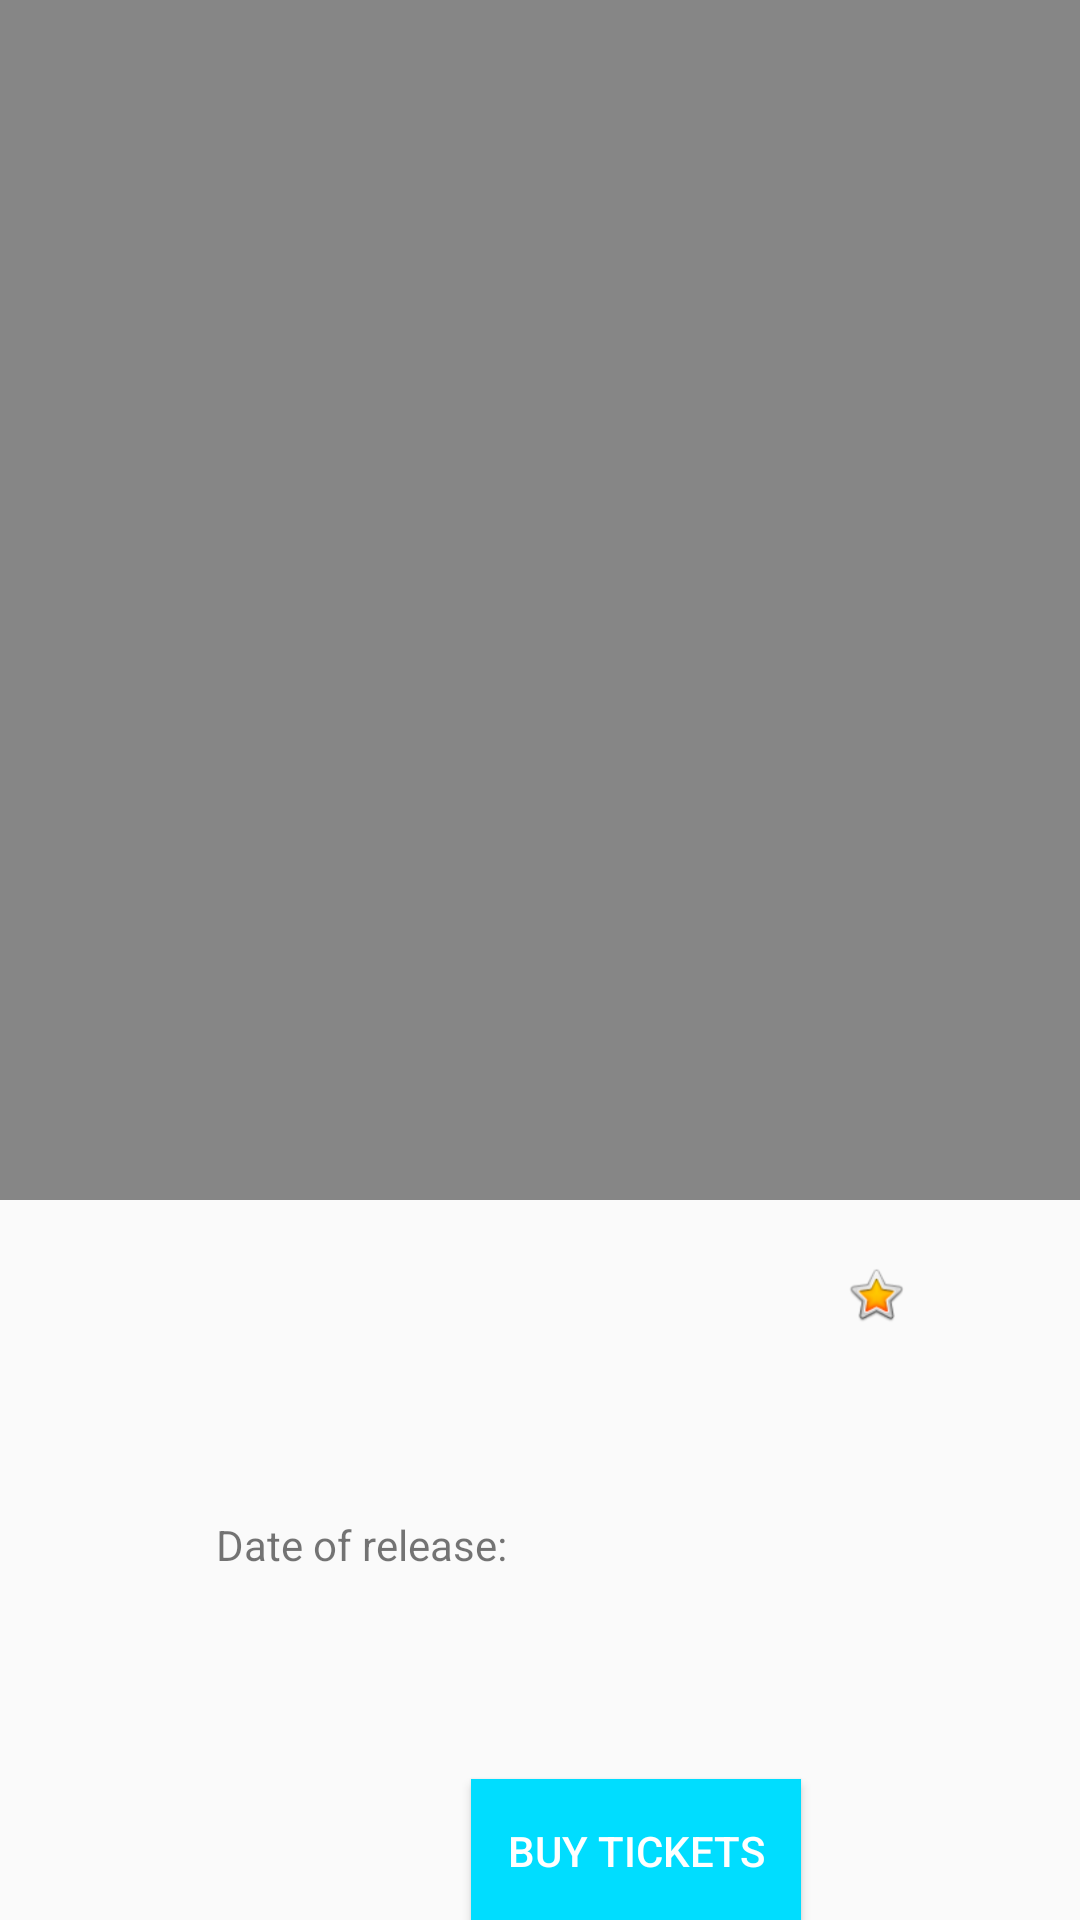

Where icons sit on this 1080px×1920px app screen, as box(x1, y1, x2, y2):
star on: box(850, 1269, 903, 1321)
